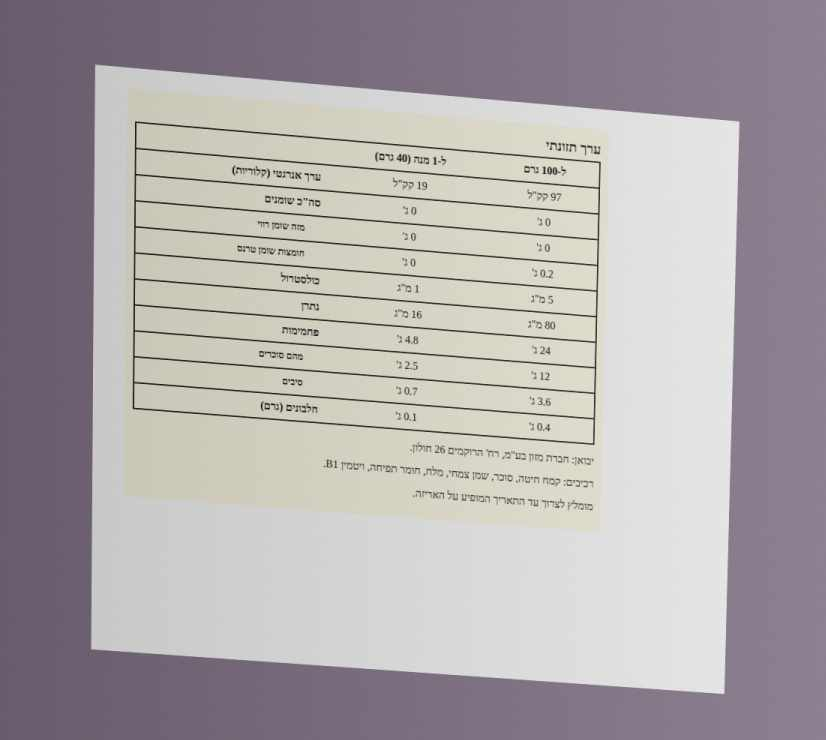carbs: (530, 342, 552, 358)
energy: (525, 187, 563, 205)
fat: (535, 214, 552, 230)
protein: (527, 419, 552, 435)
